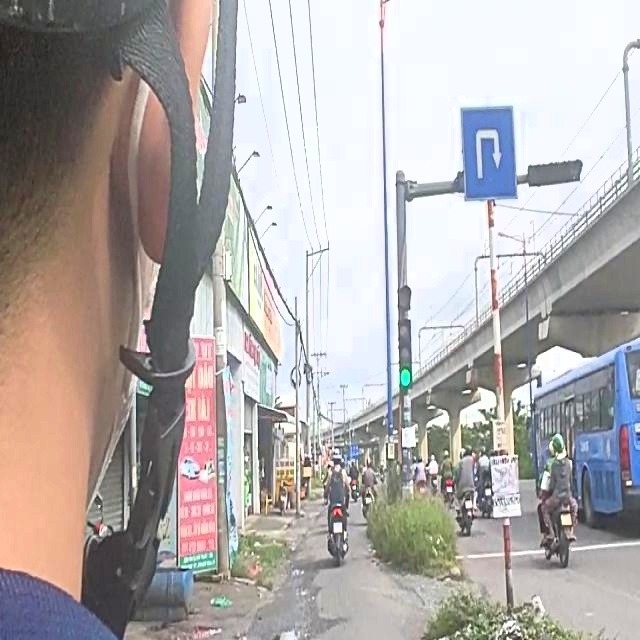I.409: (454, 95, 518, 215)
